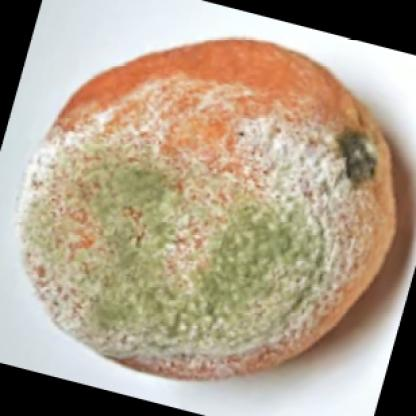rotten: (25, 40, 397, 384)
